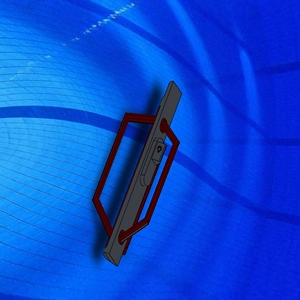submarine: (88, 70, 201, 274)
